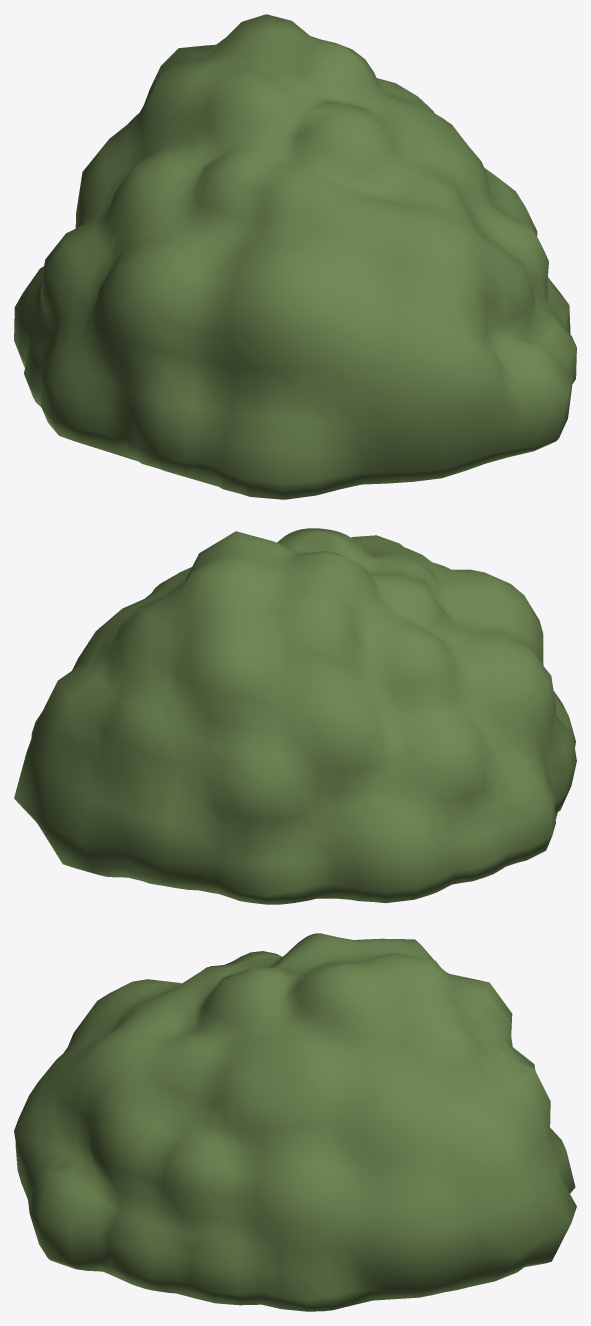
The model's file is Bush_3.fbx.
3 renders of one model, top to bottom at view 1: azimuth 30°, elevation 25°; view 2: azimuth 150°, elevation 25°; view 3: azimuth 270°, elevation 25°, orthographic. The views are drawn at different scales.
Parts seen in each view (by area): view 1: Bush_3; view 2: Bush_3; view 3: Bush_3.
Boxes of the visible parts, x1,y1,x2,y2 form: Bush_3: (14, 14, 576, 499); Bush_3: (14, 528, 576, 904); Bush_3: (14, 933, 576, 1311).
Size of the model in its own units: 370 by 211 by 408.
